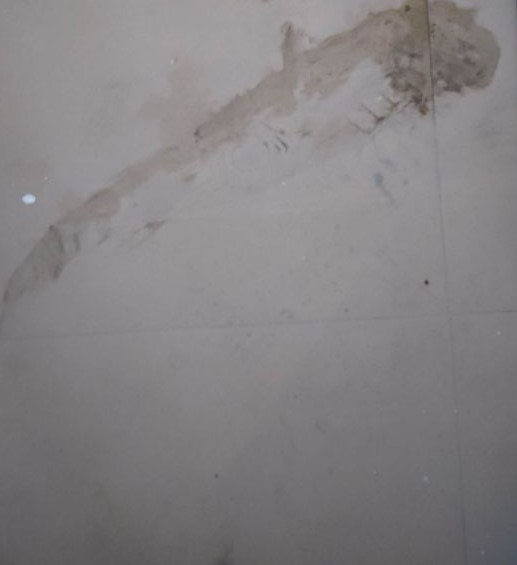grey spot: (1, 1, 503, 306)
